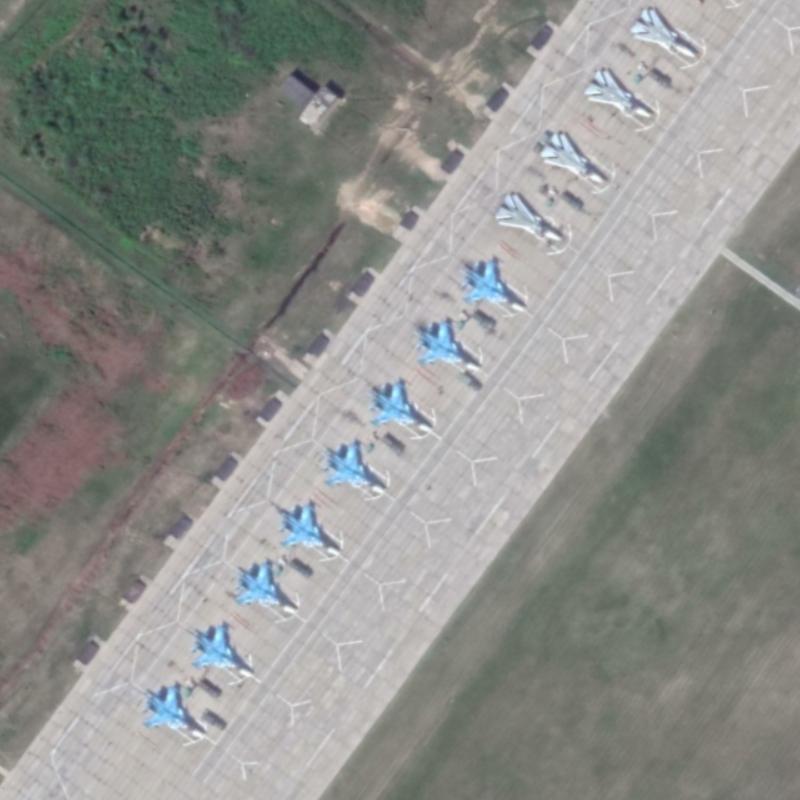A19: (411, 318, 484, 374), (188, 622, 258, 679), (139, 683, 208, 740), (367, 379, 437, 434), (459, 259, 528, 314), (321, 441, 389, 495), (231, 561, 300, 614), (277, 502, 343, 556)
A20: (628, 6, 699, 60), (538, 131, 608, 185), (583, 68, 654, 120), (493, 192, 565, 242)
